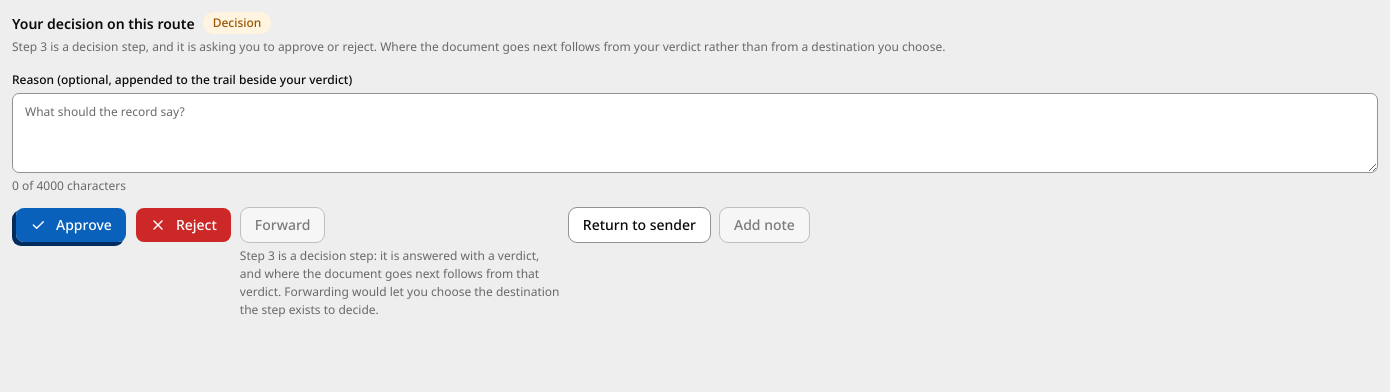
Test: rejecting › reports where a drawn rejection path actually sent it
Step 1. Click the button "Reject" → (183, 225), box [135,207,232,243]
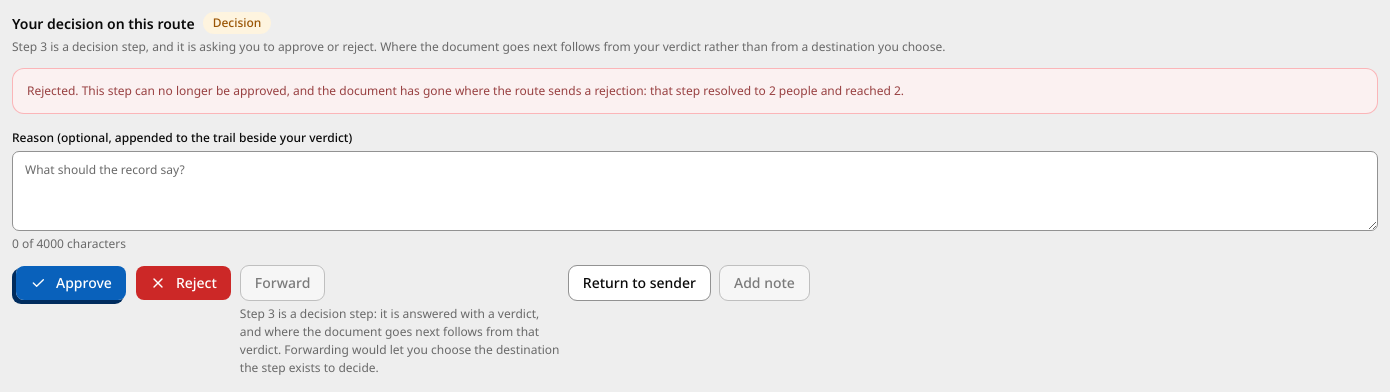
Check: the message is shown, box [12,68,1378,114]
Check: the message shows "gone where the route sends a rejection", box [27,82,904,99]
